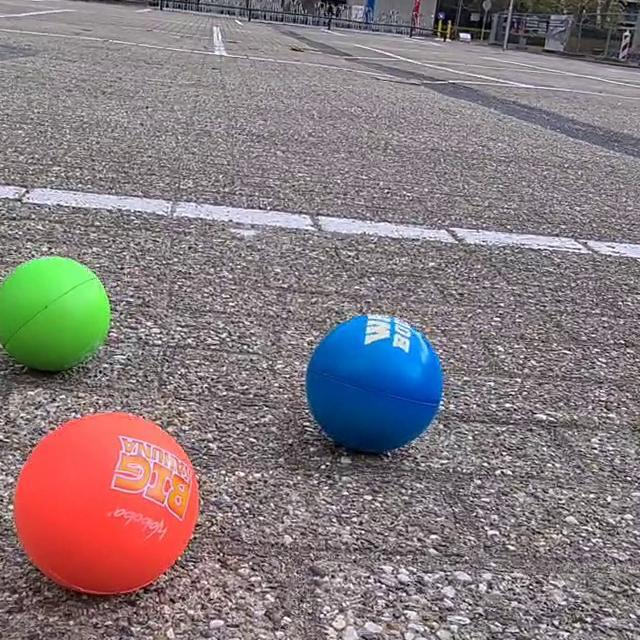ball: (0, 250, 114, 373)
